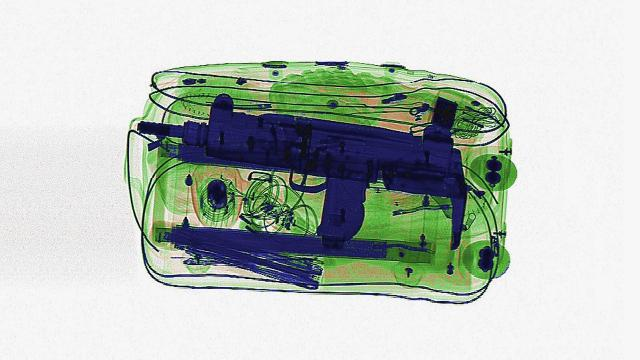Gun: (135, 92, 467, 252)
